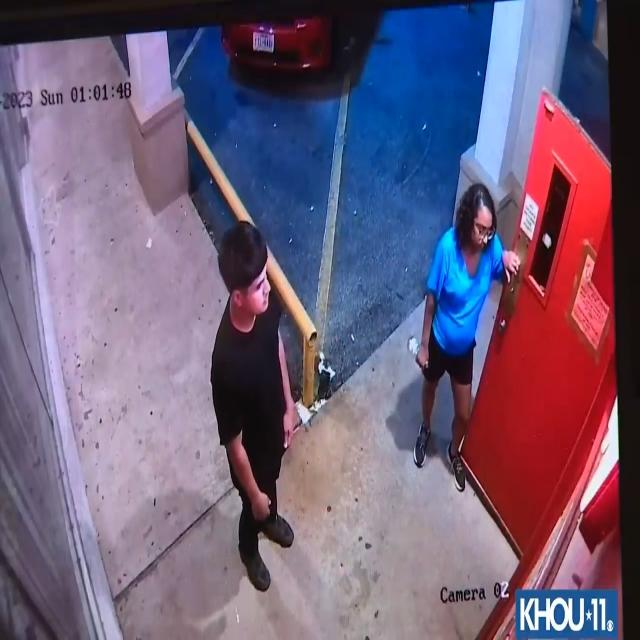Person: (204, 211, 302, 591), (410, 174, 520, 489)
